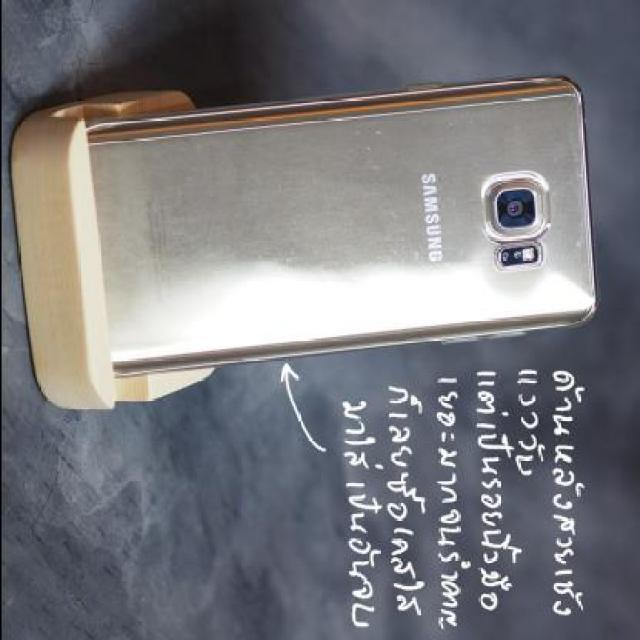phone: (85, 75, 597, 379)
